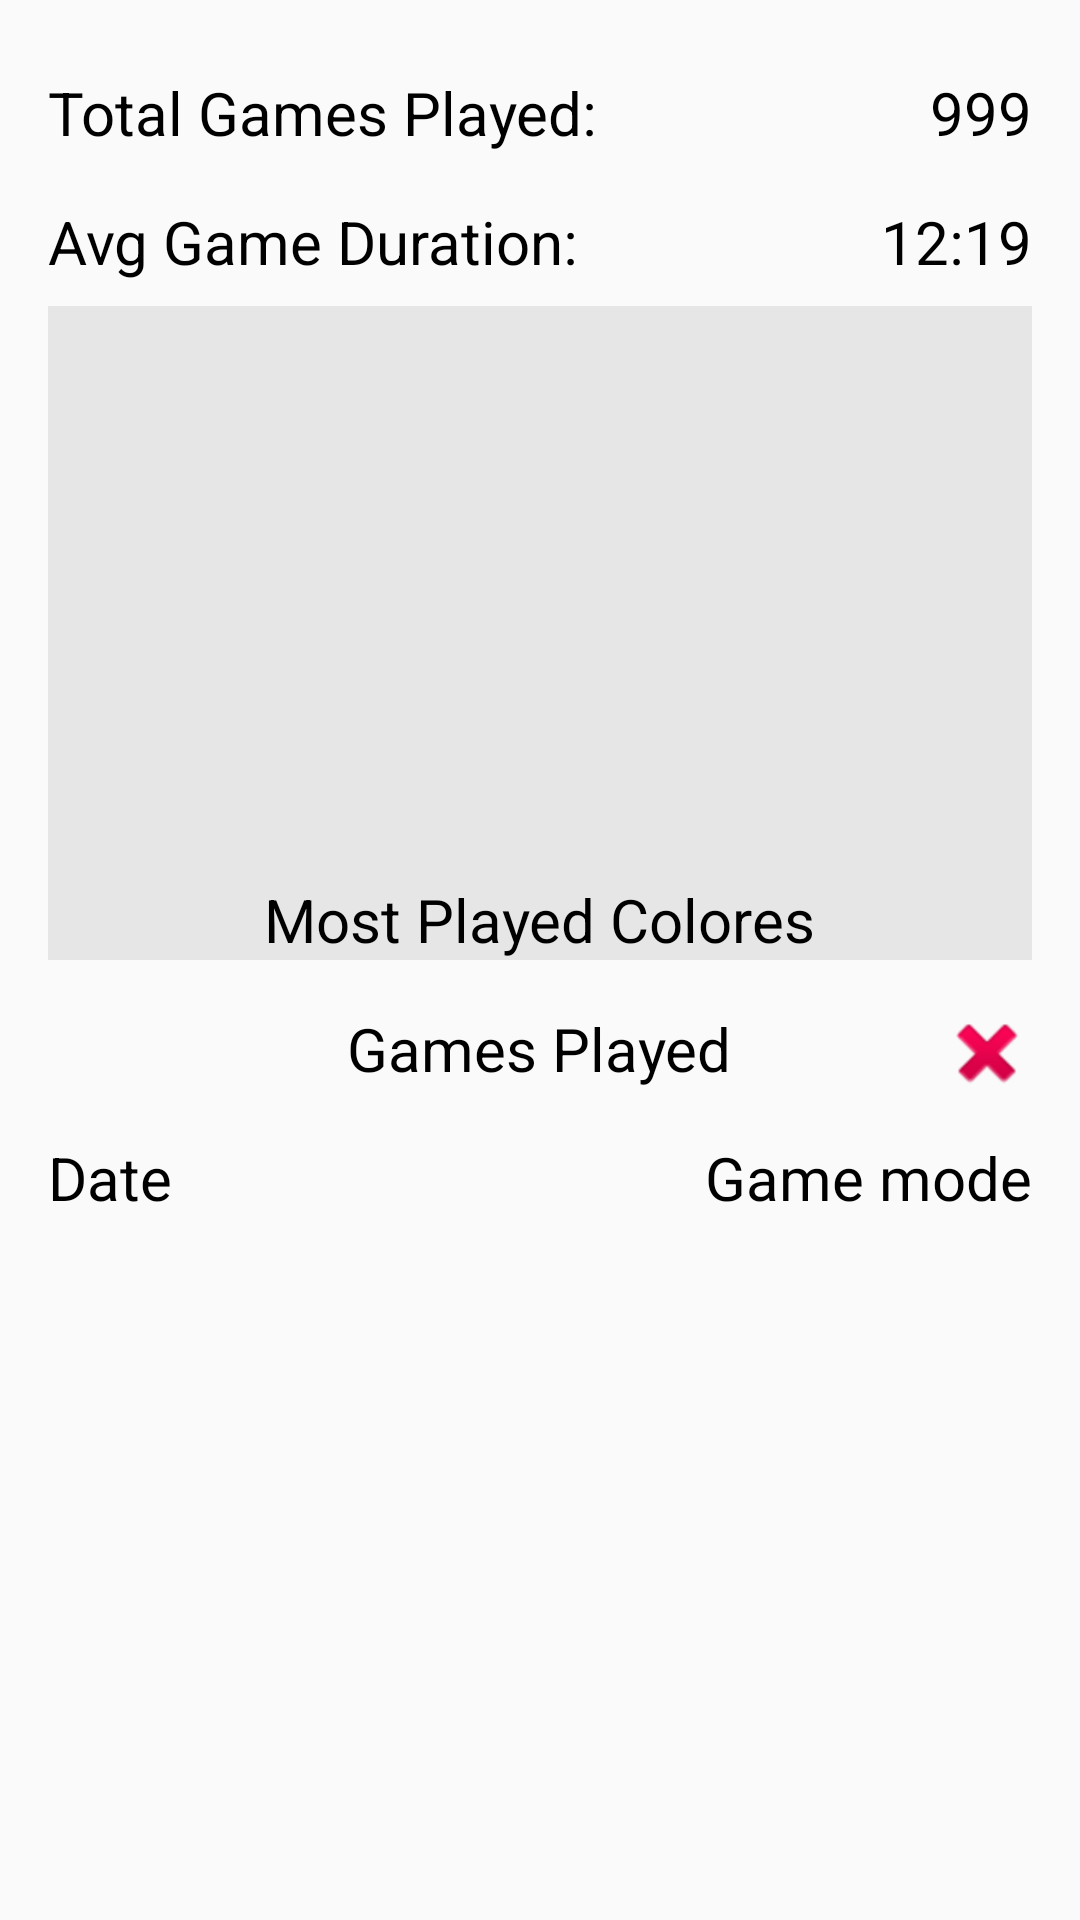

Icon bounding boxes for this 1080w x 1920h phone screenshot, format bbox=(x1, y1, x2, y2):
delete: bbox=(956, 1024, 1018, 1083)
